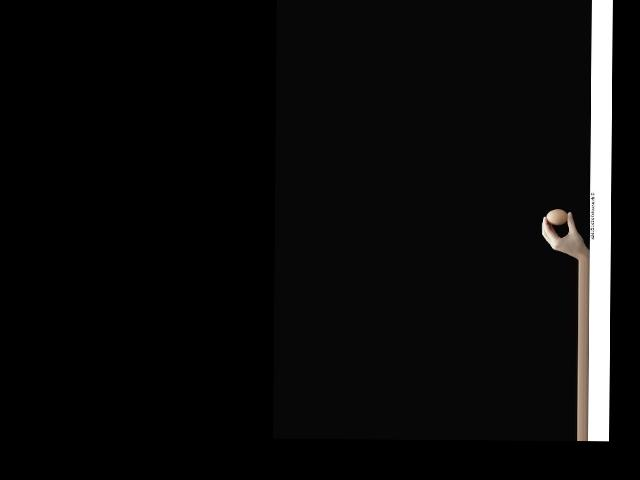egg: (545, 209, 567, 224)
